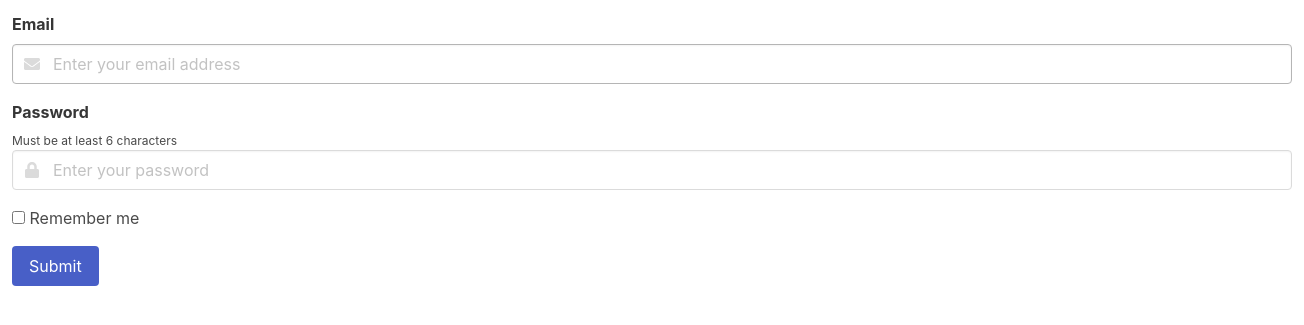
Scenario: <Login /> › email › should display error message when the email value is invalid
Type "johndoe@gmail" into the field labelled "Email" at (652, 64), box [12, 44, 1292, 84]
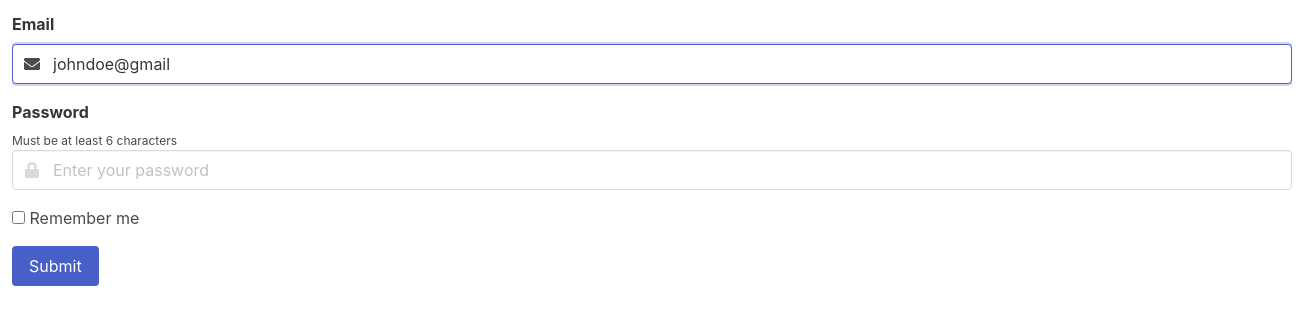
Type "123456" into the password field labelled "Password" at (652, 170), box [12, 150, 1292, 190]
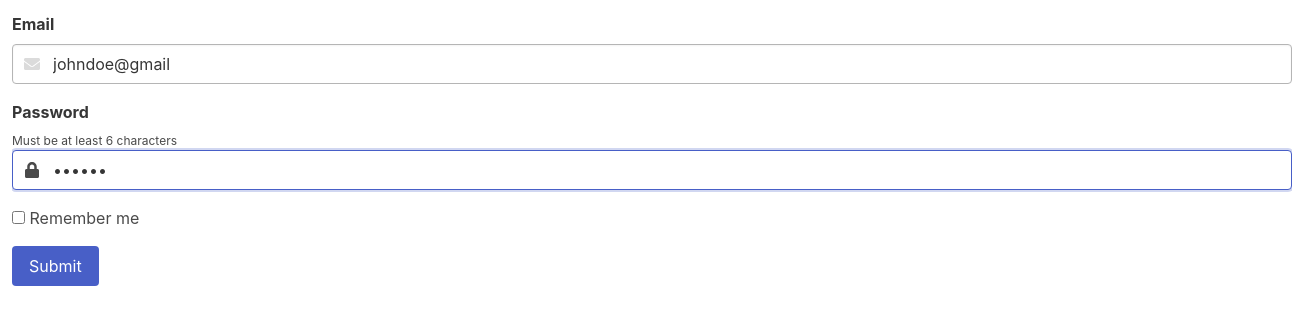
Click the button "Submit" at (55, 266), box [12, 246, 99, 286]
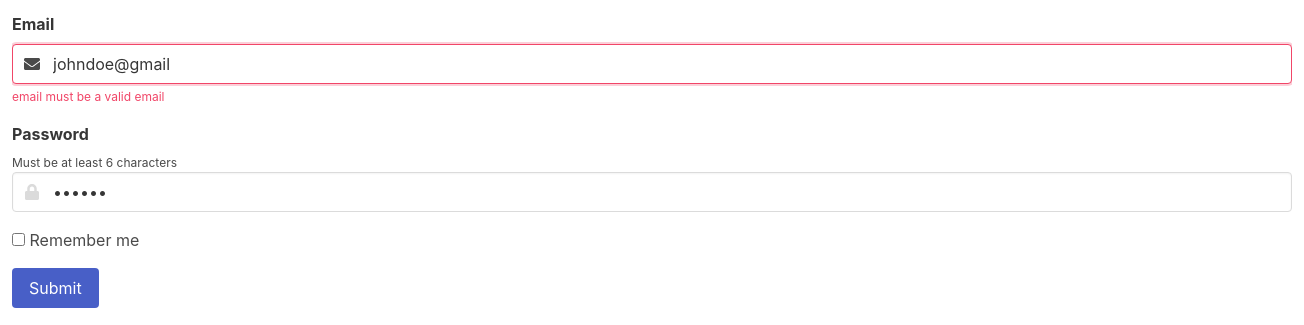
Expected: the number of messages is 1, [12, 89, 164, 104]
